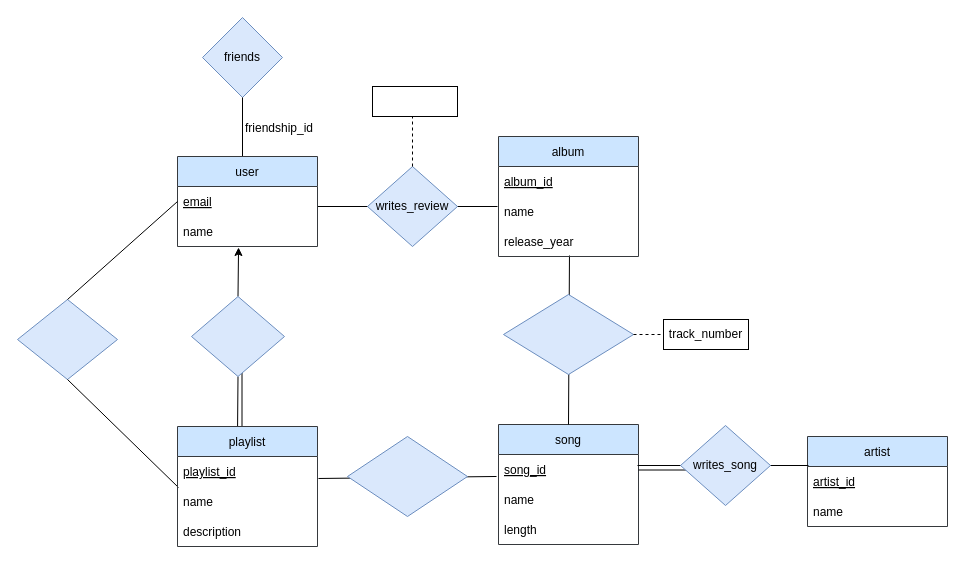
This 965x564 diagram has some shape labels left out. Here are the shapes that lost their labels. From the top down, the centre of each, then its label:
the point at 415,101: score review_text
the point at 67,339: follows_playlist
the point at 237,336: creates_playlist
the point at 568,334: appears_in_album
the point at 407,476: appears_in_playlist
